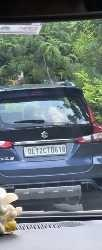License plate: (23, 144, 68, 157)
